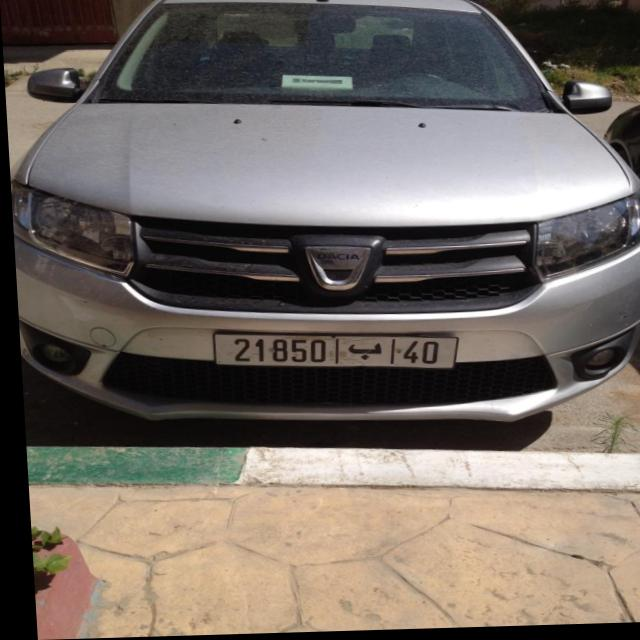License-Plate: (209, 335, 453, 372)
